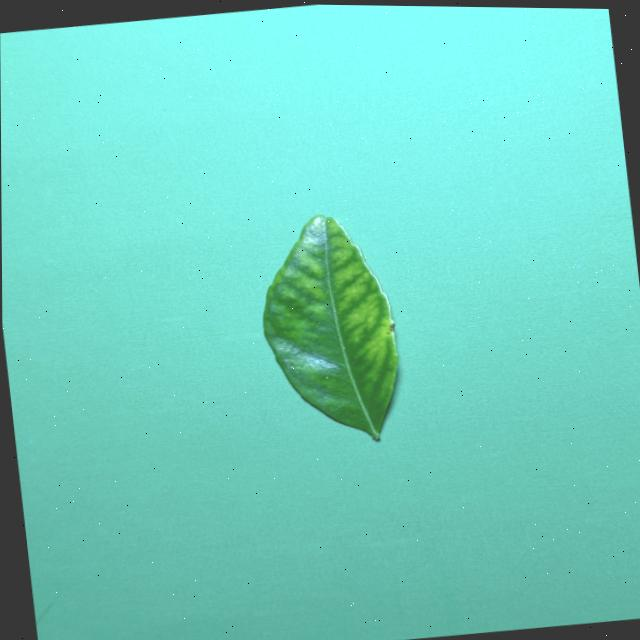greening: (262, 214, 396, 439)
